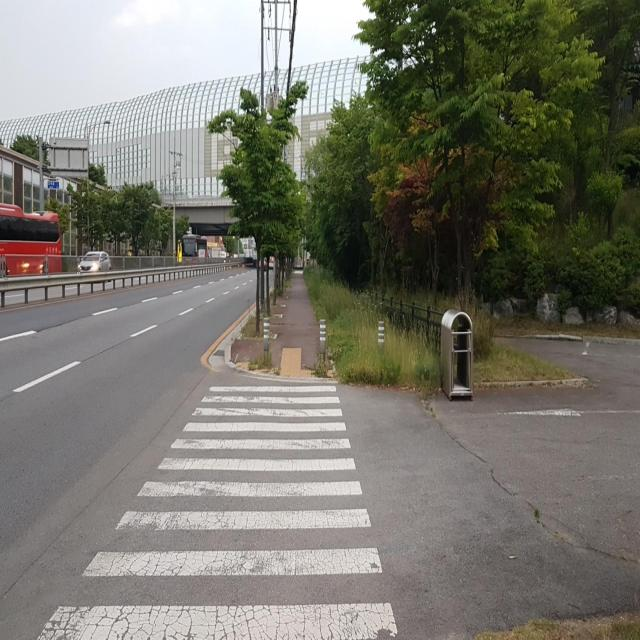횡단보도: (32, 380, 401, 639)
